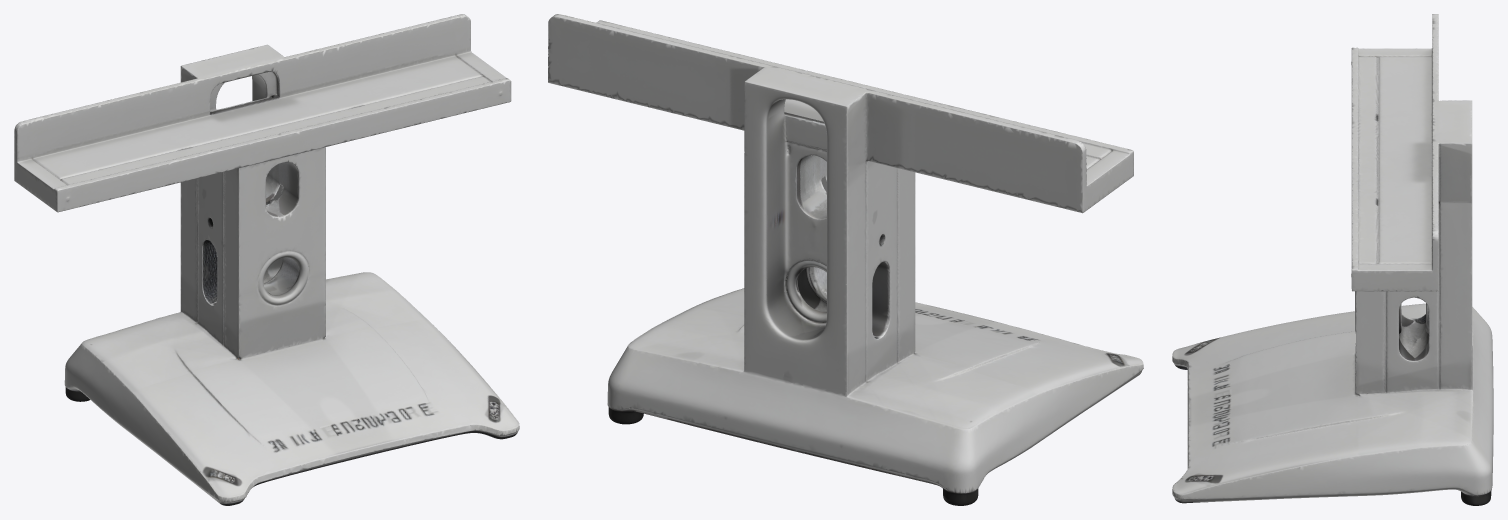
The model's file is monitor_base.glb.
3 renders of one model, left to right at view 1: azimuth 30°, elevation 25°; view 2: azimuth 150°, elevation 25°; view 3: azimuth 270°, elevation 25°, orthographic. The views are drawn at different scales.
Size of the model in its own units: 1.9 by 1.24 by 1.16.
Materials: 1 (1 with a texture image).
